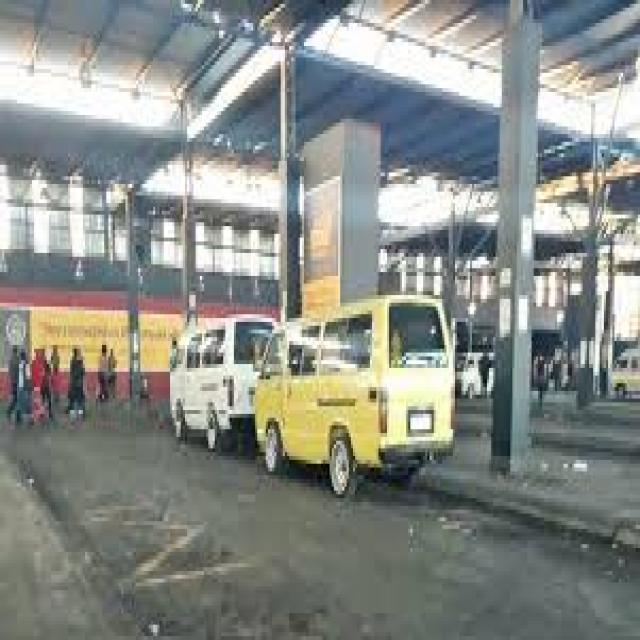MiniBus taxi: (256, 291, 462, 483), (168, 306, 279, 448)
